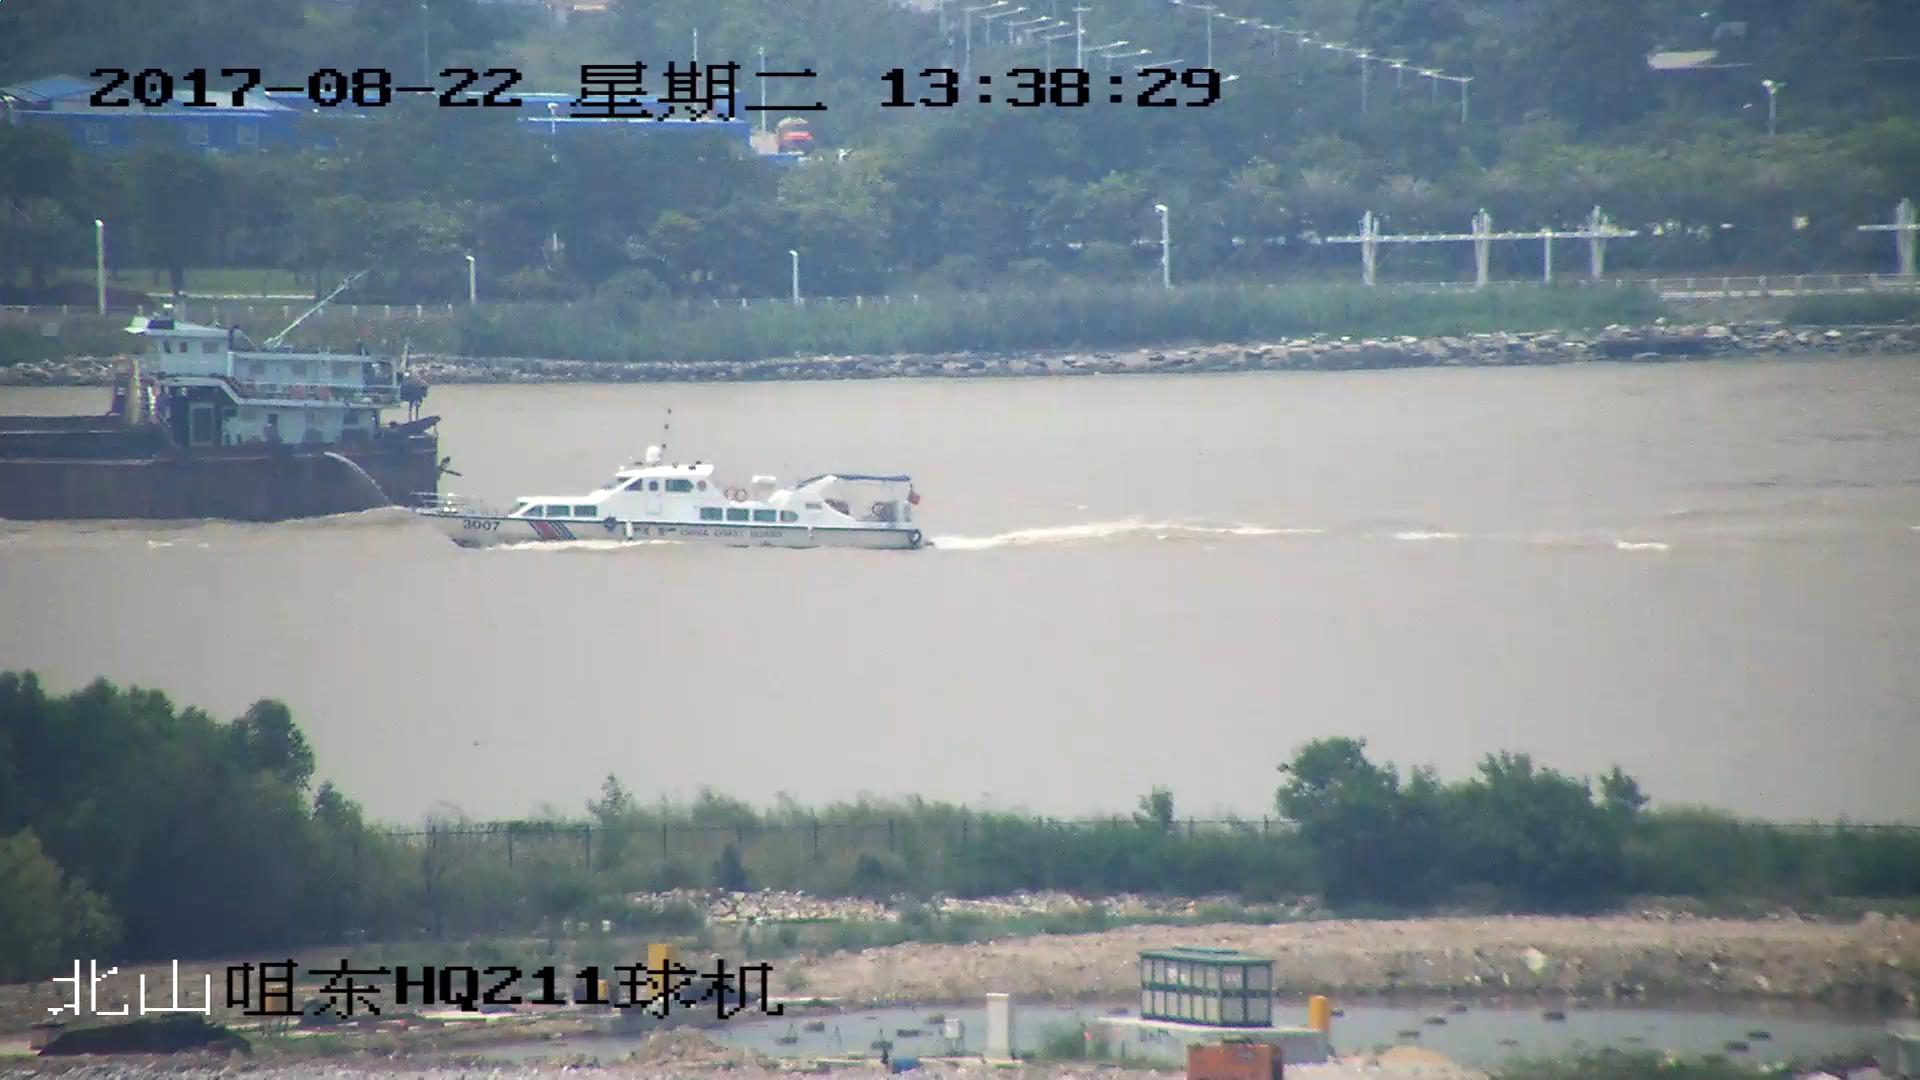Ship: (3, 301, 454, 517), (417, 425, 936, 556)
